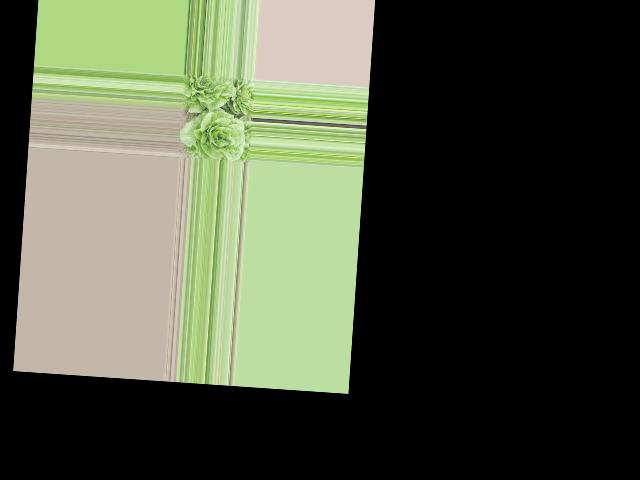lettuce: (182, 73, 237, 111)
